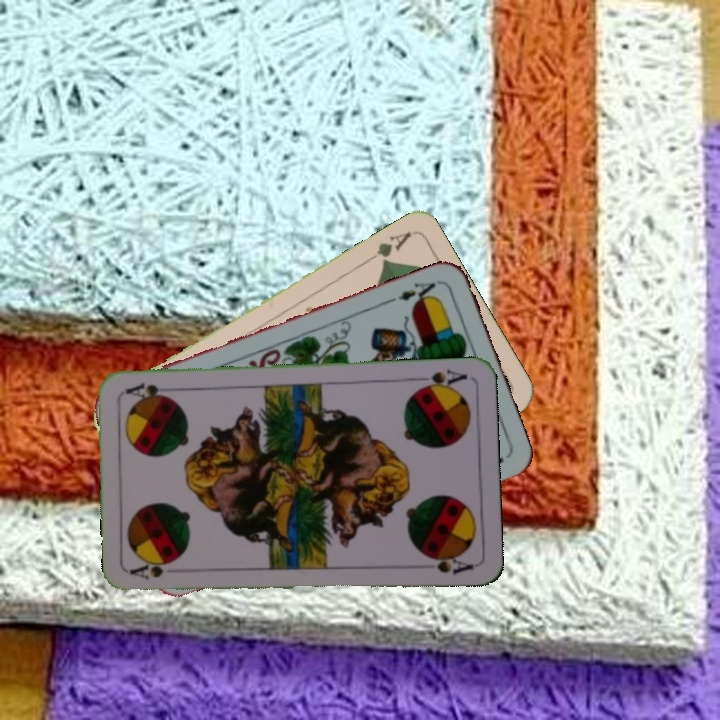EA: (394, 276, 444, 307)
GA: (361, 227, 415, 268)
SA: (411, 365, 470, 393), (127, 562, 187, 582)
